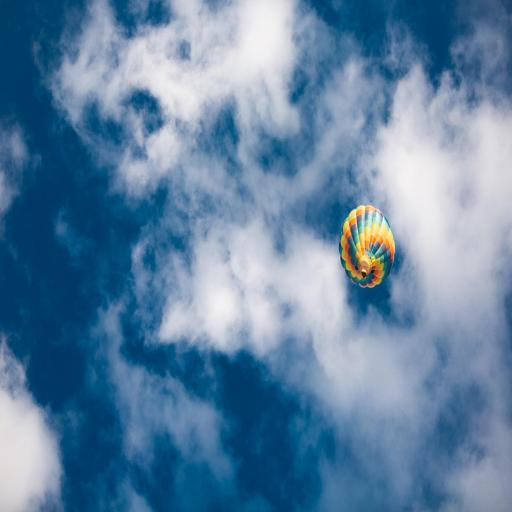hot air ballon: (338, 200, 396, 290)
